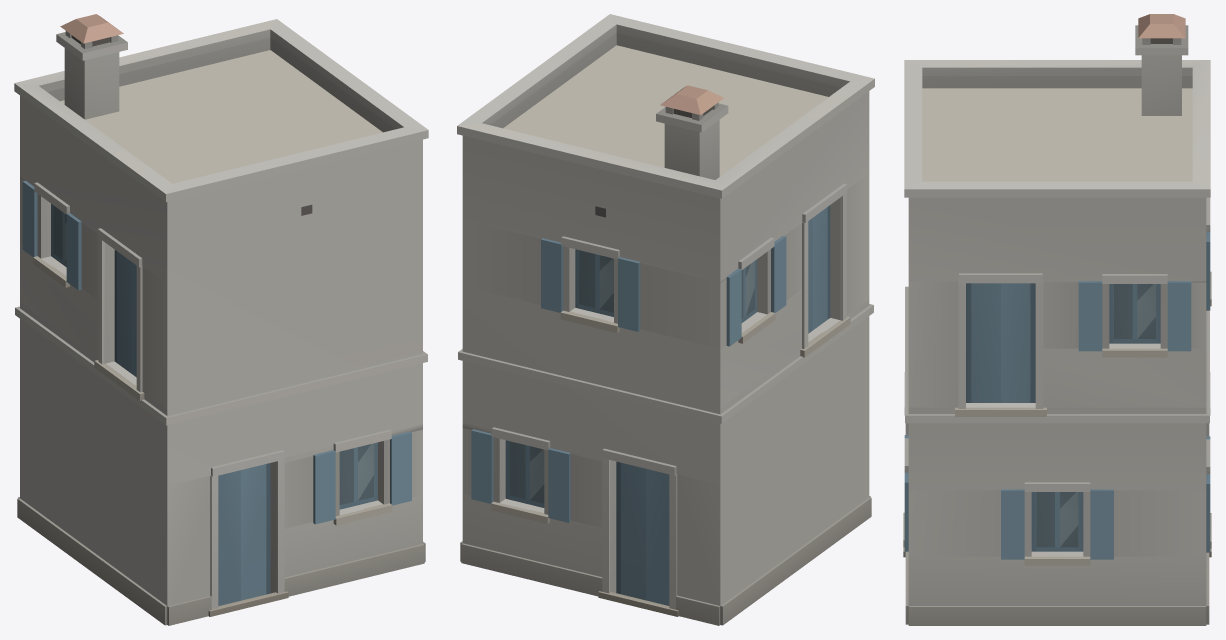
The picture shows the model from 3 angles, left to right: view 1: azimuth 30°, elevation 25°; view 2: azimuth 150°, elevation 25°; view 3: azimuth 270°, elevation 25°; orthographic projection.
Size of the model in its own units: 4.43 by 8 by 4.43.
